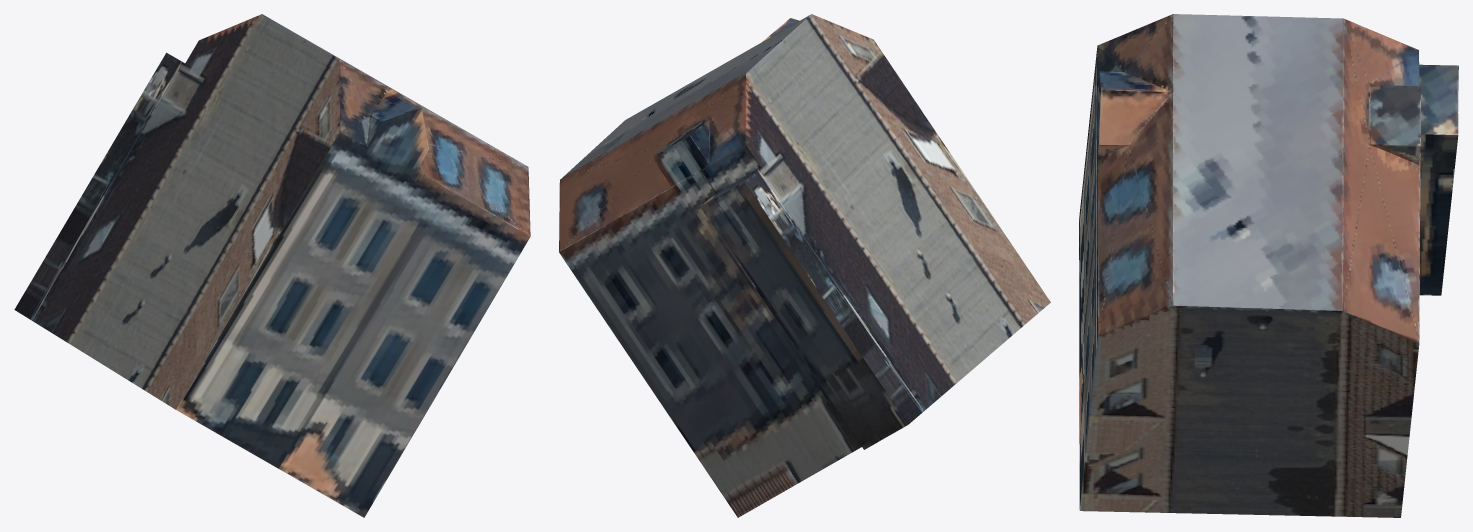
3 renders of one model, left to right at view 1: azimuth 30°, elevation 25°; view 2: azimuth 150°, elevation 25°; view 3: azimuth 270°, elevation 25°, orthographic. The views are drawn at different scales.
Visible parts, largest first — view 1: BAG_0599100000688727 (×4); view 2: BAG_0599100000688727 (×5); view 3: BAG_0599100000688727 (×6).
Part boxes in pixels (<box>): BAG_0599100000688727 (×4): <box>14,14,530,517</box>; BAG_0599100000688727 (×5): <box>559,14,1050,517</box>; BAG_0599100000688727 (×6): <box>1079,14,1458,517</box>.
Bounding box in the file's own units: 15.53 × 16.14 × 10.76.
8 materials, 8 textured.
